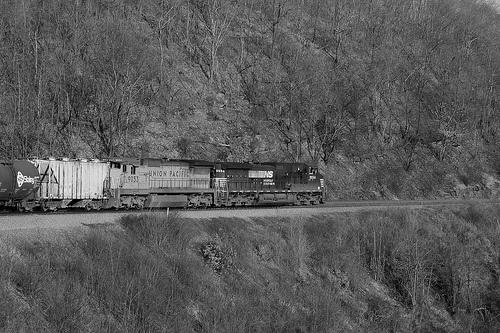train: (2, 157, 327, 212)
